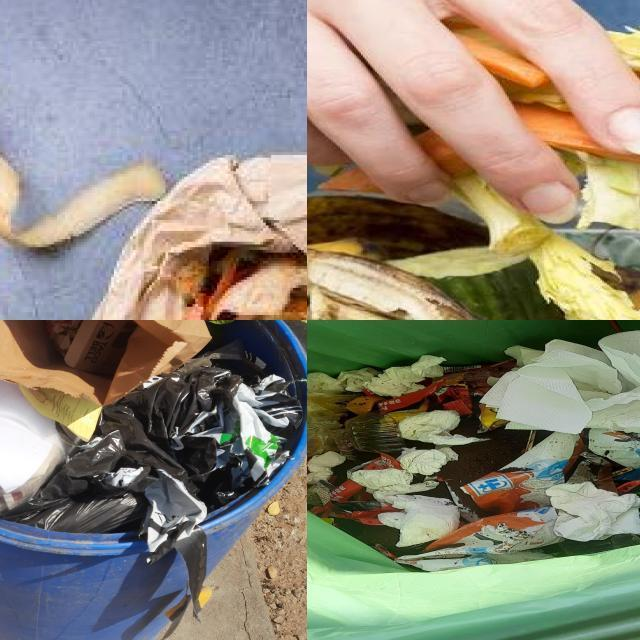Disposable: (345, 410, 417, 454)
Garbage: (0, 320, 304, 601), (307, 331, 640, 572), (307, 213, 640, 320)
Plastic: (46, 320, 83, 355)
Plastic_Bag: (2, 345, 302, 629), (396, 507, 562, 572), (461, 433, 580, 515), (307, 391, 354, 458)
Plastic_wraper: (589, 429, 640, 469), (328, 502, 399, 525), (435, 386, 473, 415), (476, 404, 509, 433)
